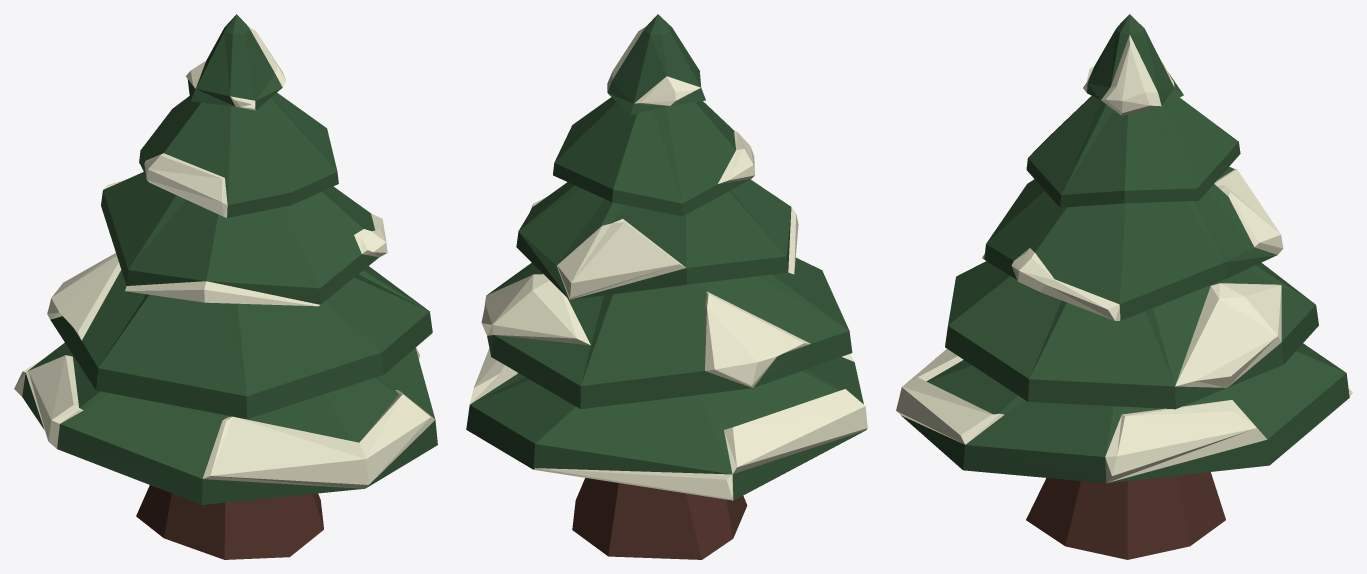
The model's file is xmas tree with little snow.fbx.
3 views of the same model, side by side, from view 1: azimuth 30°, elevation 25°; view 2: azimuth 150°, elevation 25°; view 3: azimuth 270°, elevation 25° (orthographic).
Parts seen in each view (by area): view 1: Cube; view 2: Cube; view 3: Cube.
Boxes of the visible parts, x1=… form: Cube: x1=14, y1=14, x2=437, y2=559; Cube: x1=466, y1=14, x2=867, y2=559; Cube: x1=896, y1=14, x2=1352, y2=559.
Bounding box in the file's own units: 691 × 894 × 733.
